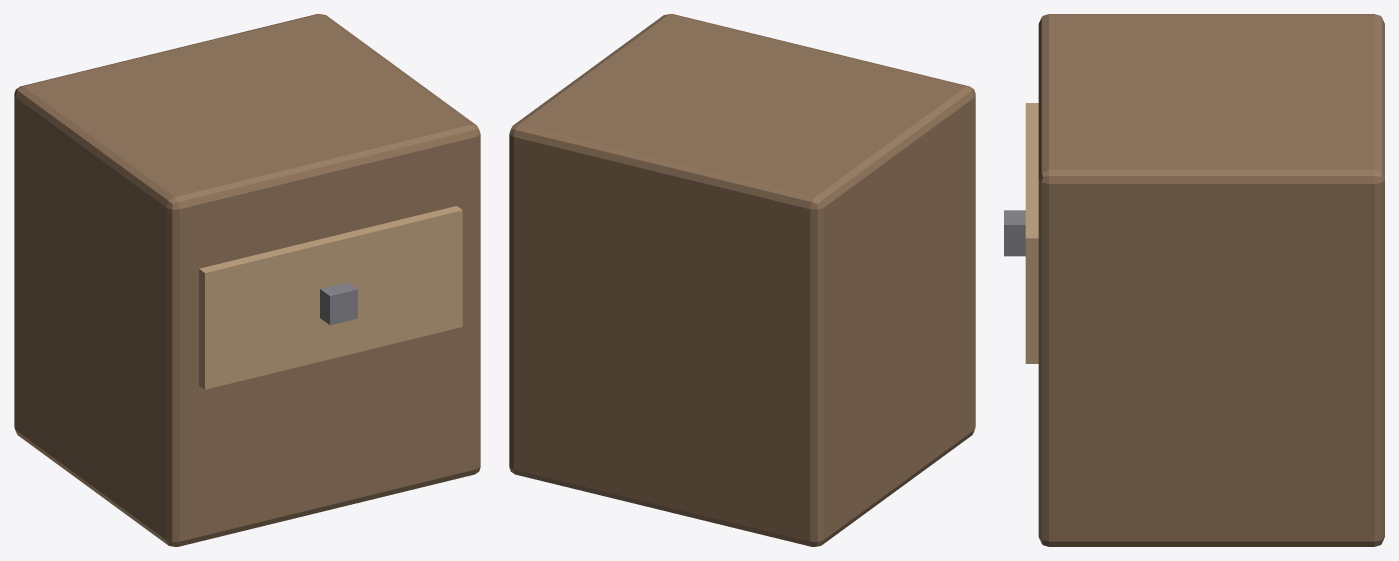
The model's file is fur_nightstand.glb.
The picture shows the model from 3 angles, left to right: view 1: azimuth 30°, elevation 25°; view 2: azimuth 150°, elevation 25°; view 3: azimuth 270°, elevation 25°; orthographic projection. The views are drawn at different scales.
Visible parts, largest first — view 1: fur_nightstand; view 2: fur_nightstand; view 3: fur_nightstand.
Boxes of the visible parts, left/top/right/bottom form: fur_nightstand: left=14, top=14, right=480, bottom=546; fur_nightstand: left=509, top=14, right=975, bottom=546; fur_nightstand: left=1004, top=14, right=1384, bottom=546.
Size of the model in its own units: 0.45 by 0.48 by 0.44.
